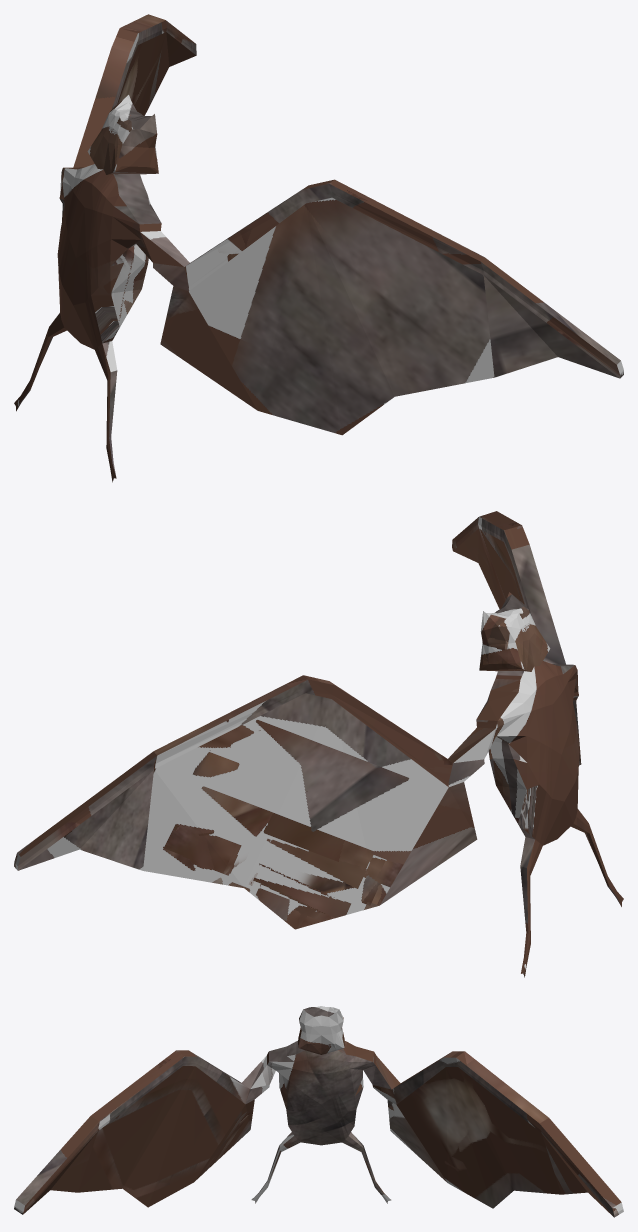
The model's file is Enemigo125.obj.
3 renders of one model, top to bottom at view 1: azimuth 30°, elevation 25°; view 2: azimuth 150°, elevation 25°; view 3: azimuth 270°, elevation 25°, orthographic. The views are drawn at different scales.
Parts seen in each view (by area): view 1: Plano; view 2: Plano; view 3: Plano.
Boxes of the visible parts, x1,y1,x2,y2 form: Plano: [14, 14, 623, 482]; Plano: [14, 511, 623, 977]; Plano: [14, 1006, 623, 1217].
Size of the model in its own units: 0.8268 by 0.7371 by 1.85.
1 material, 1 textured.
